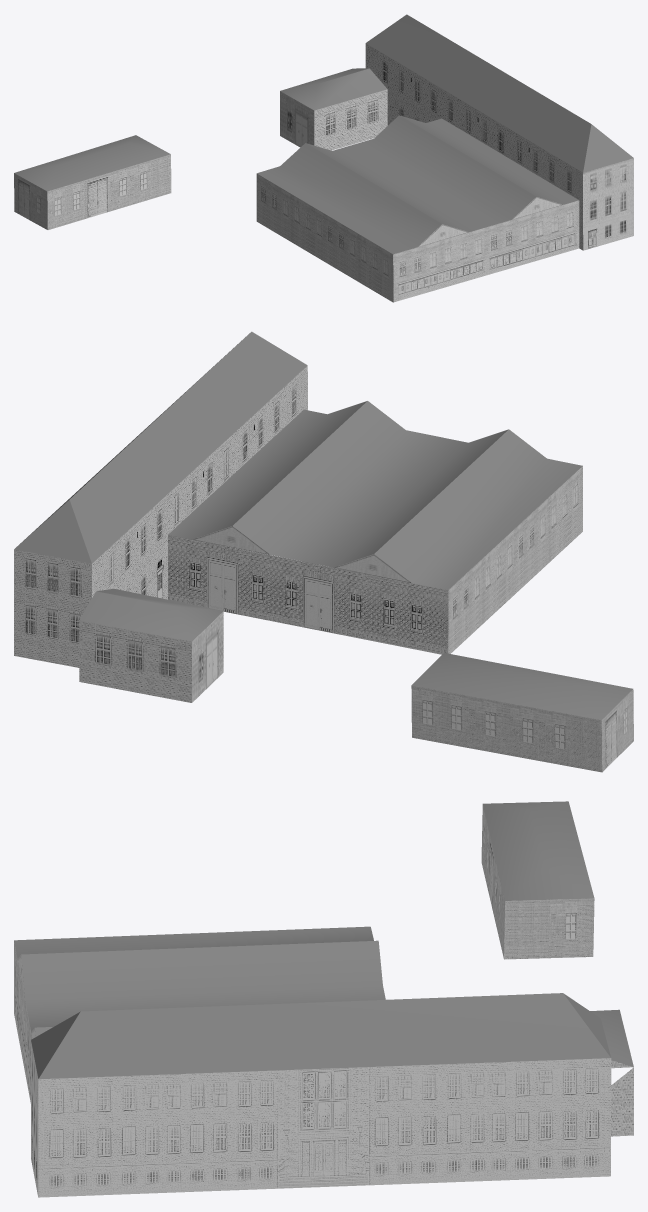
Rendered from Jante-Bau.gltf.
3 views of the same model, one above another, from view 1: azimuth 30°, elevation 25°; view 2: azimuth 150°, elevation 25°; view 3: azimuth 270°, elevation 25° (orthographic). The views are drawn at different scales.
Visible parts, largest first — view 1: Hauptgebaeude.1; view 2: Hauptgebaeude.1; view 3: Hauptgebaeude.1.
Part boxes in pixels (x1,y1,x2,y2): Hauptgebaeude.1: (14, 14, 633, 302); Hauptgebaeude.1: (14, 331, 633, 772); Hauptgebaeude.1: (14, 801, 633, 1197).
Bounding box in the file's own units: 87.06 × 20.4 × 69.17.
Materials: 19 (18 with a texture image).
